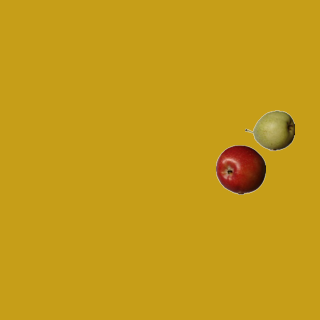Apple Braeburn: (215, 144, 265, 194)
Pear: (244, 105, 294, 155)
